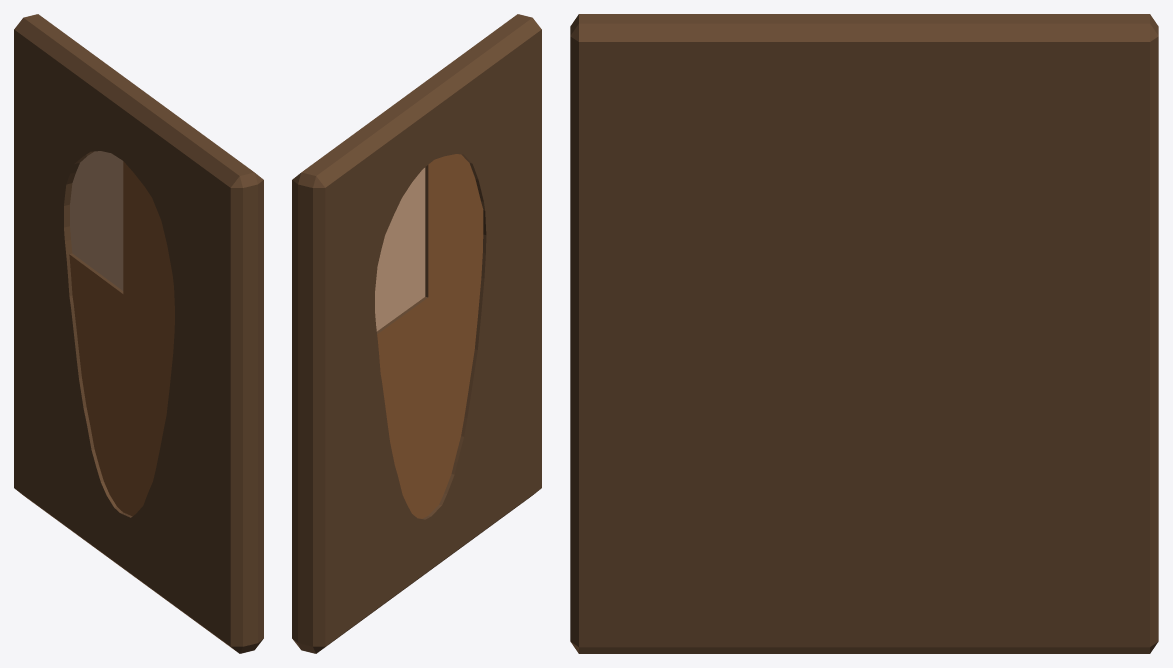
File: leftclicksign.fbx
3 renders of one model, left to right at view 1: azimuth 30°, elevation 25°; view 2: azimuth 150°, elevation 25°; view 3: azimuth 270°, elevation 25°, orthographic. The views are drawn at different scales.
Parts seen in each view (by area): view 1: Cube; view 2: Cube; view 3: Cube.
Part boxes in pixels (x1,y1,x2,y2): Cube: (14, 14, 263, 653); Cube: (292, 14, 541, 653); Cube: (570, 14, 1158, 653).
Size of the model in its own units: 21.59 by 297 by 251.
